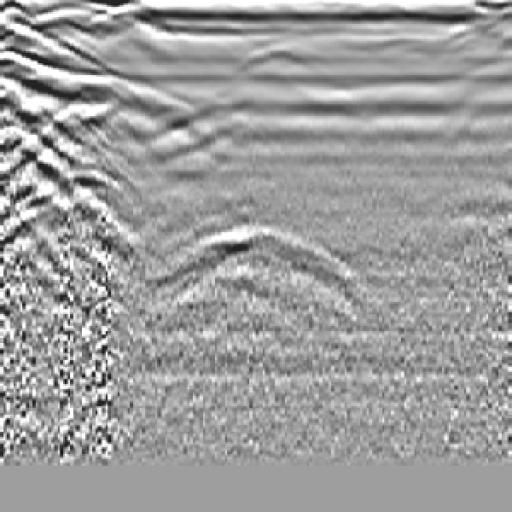non-metallic: (143, 222, 379, 312), (1, 31, 99, 224)
